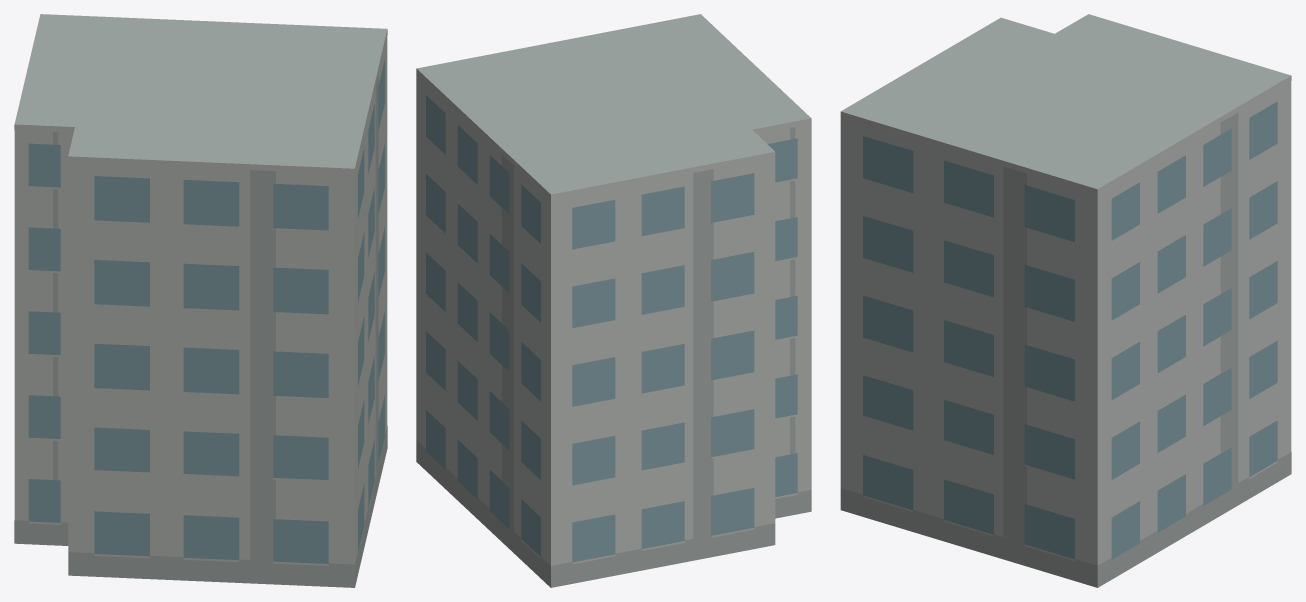
Rendered from survey-upis-32834608.glb.
3 views of the same model, side by side, from view 1: azimuth 30°, elevation 25°; view 2: azimuth 150°, elevation 25°; view 3: azimuth 270°, elevation 25° (orthographic). The views are drawn at different scales.
Visible parts, largest first — view 1: survey-upis-32834608.tmp; view 2: survey-upis-32834608.tmp; view 3: survey-upis-32834608.tmp.
Part boxes in pixels (x1,y1,x2,y2): survey-upis-32834608.tmp: (14, 14, 387, 587); survey-upis-32834608.tmp: (416, 14, 811, 587); survey-upis-32834608.tmp: (840, 14, 1291, 587).
Bounding box in the file's own units: 16.32 × 17.3 × 17.74.
